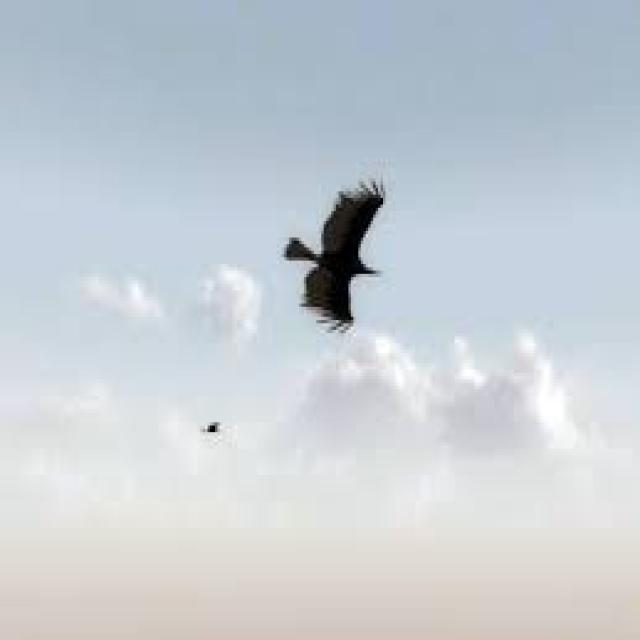bird: (271, 122, 428, 426), (195, 409, 229, 450)
